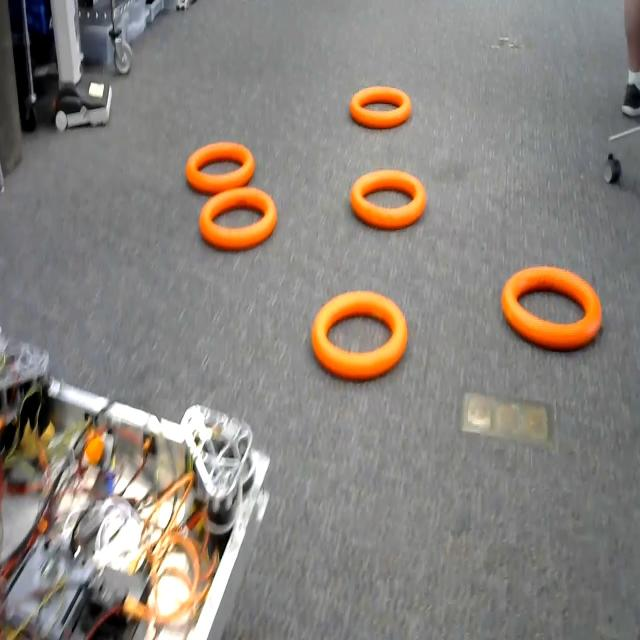note: (499, 260, 608, 356), (310, 292, 414, 378), (349, 166, 430, 232), (202, 193, 276, 248), (182, 139, 262, 189), (348, 76, 414, 134)
